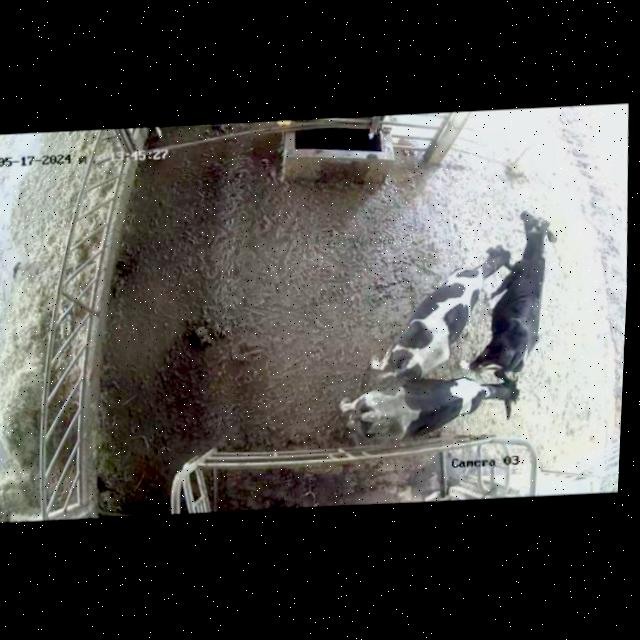stand: (361, 218, 520, 379), (460, 193, 574, 378), (322, 367, 530, 442)
